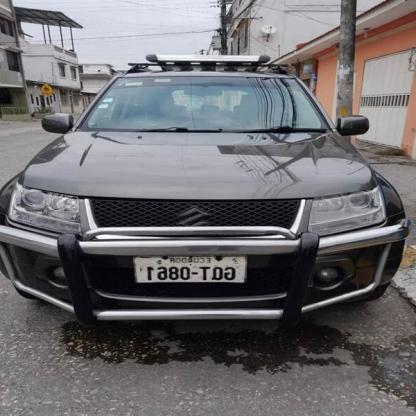Placa: (129, 251, 250, 285)
